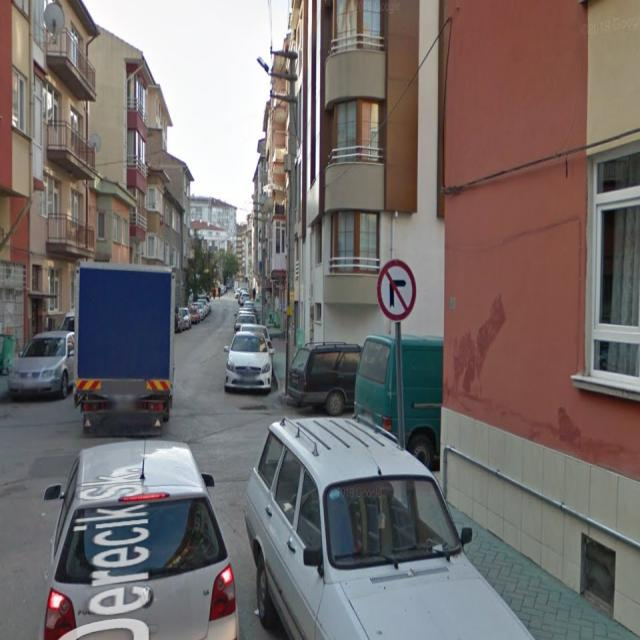sagadonulmez: (375, 260, 416, 320)
